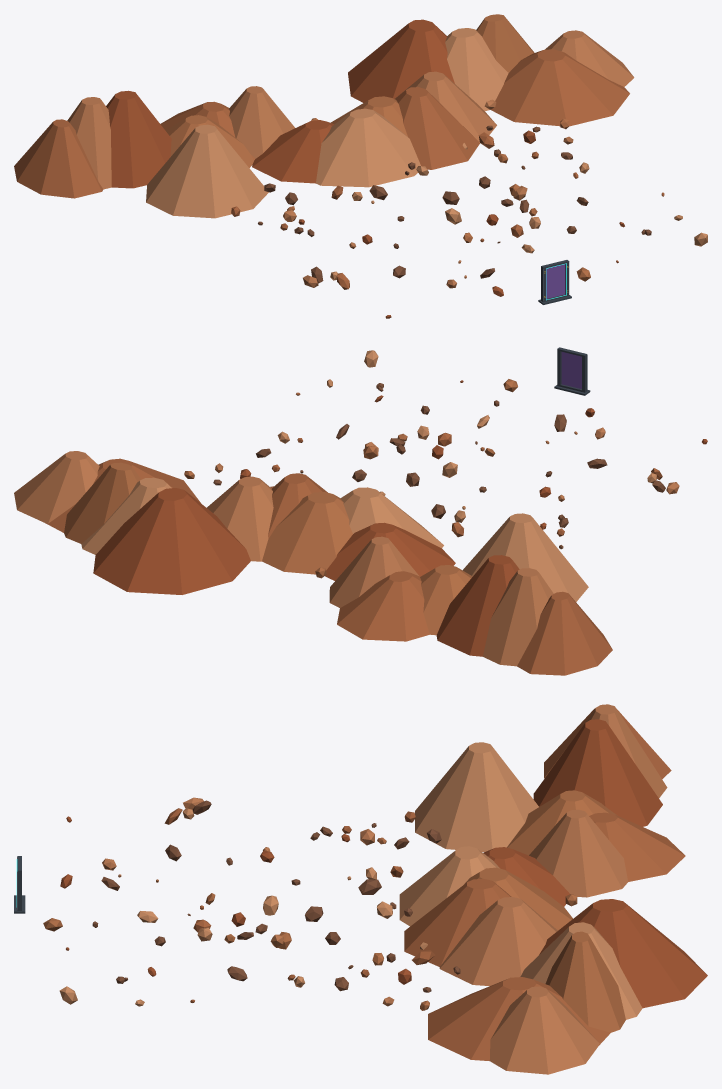
Rendered from Portalbox.glb.
3 renders of one model, top to bottom at view 1: azimuth 30°, elevation 25°; view 2: azimuth 150°, elevation 25°; view 3: azimuth 270°, elevation 25°, orthographic. The views are drawn at different scales.
Parts seen in each view (by area): view 1: MarsMountain_03, MarsMountain_15, MarsMountain_08, MarsMountain_12, MarsMountain_02, MarsMountain_00, MarsMountain_10, MarsMountain_13, MarsMountain_07, MarsMountain_06, MarsMountain_01, MarsMountain_11 (+6 smaller); view 2: MarsMountain_12, MarsMountain_09, MarsMountain_00, MarsMountain_05, MarsMountain_03, MarsMountain_02, MarsMountain_01, MarsMountain_16, MarsMountain_11, MarsMountain_14, MarsMountain_07, MarsMountain_06 (+6 smaller); view 3: MarsMountain_03, MarsMountain_12, MarsMountain_02, MarsMountain_16, MarsMountain_11, MarsMountain_06, MarsMountain_15, MarsMountain_14, MarsMountain_10, MarsMountain_05, MarsMountain_08, MarsMountain_13 (+5 smaller).
Boxes of the visible parts, x1,y1,x2,y2 form: MarsMountain_03: (146,124,268,218); MarsMountain_15: (490,49,629,126); MarsMountain_08: (316,108,420,187); MarsMountain_12: (348,19,454,102); MarsMountain_02: (106,90,171,188); MarsMountain_00: (14,119,103,198); MarsMountain_10: (395,87,479,169); MarsMountain_13: (445,28,508,111); MarsMountain_07: (252,120,333,183); MarsMountain_06: (229,86,294,158); MarsMountain_01: (67,97,111,189); MarsMountain_11: (396,71,496,142); MarsMountain_12: (93,488,250,594); MarsMountain_09: (262,492,352,574); MarsMountain_00: (517,591,612,675); MarsMountain_05: (337,571,429,641); MarsMountain_03: (462,513,588,601); MarsMountain_02: (436,555,519,656); MarsMountain_01: (482,568,553,666); MarsMountain_16: (14,451,99,523); MarsMountain_11: (207,476,273,561); MarsMountain_14: (64,462,141,543); MarsMountain_07: (325,522,455,580); MarsMountain_06: (329,536,418,607); MarsMountain_03: (415,742,538,851); MarsMountain_12: (539,899,707,1008); MarsMountain_02: (533,719,662,826); MarsMountain_16: (489,986,599,1074); MarsMountain_11: (439,897,557,986); MarsMountain_06: (529,809,628,897); MarsMountain_15: (428,977,610,1060); MarsMountain_14: (545,931,625,1032); MarsMountain_10: (404,878,511,966); MarsMountain_05: (589,812,685,881); MarsMountain_08: (399,846,499,926); MarsMountain_13: (520,922,642,1019).
Bounding box in the file's own units: 57.34 × 6.92 × 51.47.
